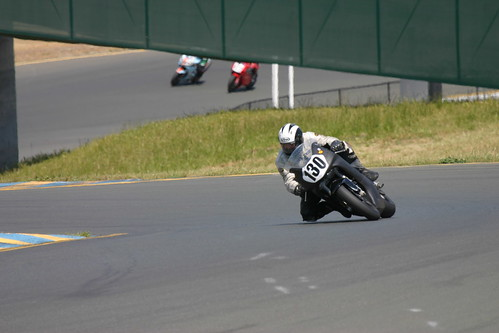helmet: (278, 119, 302, 153)
